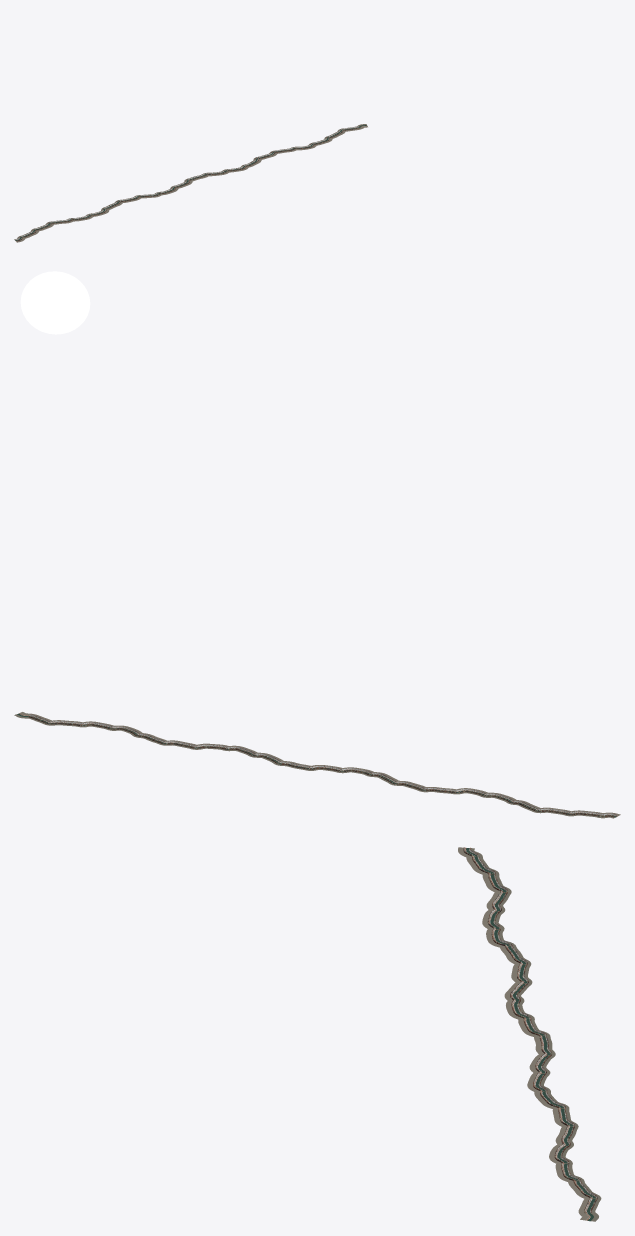
Rendered from amsterdam.glb.
3 renders of one model, top to bottom at view 1: azimuth 30°, elevation 25°; view 2: azimuth 150°, elevation 25°; view 3: azimuth 270°, elevation 25°, orthographic. The views are drawn at different scales.
Parts seen in each view (by area): view 1: no part large enough to name; view 2: Sun; view 3: no part large enough to name.
Boxes of the visible parts, x1,y1,x2,y2 form: Sun: (20, 271, 90, 334).
Bounding box in the file's own units: 10264 × 3490 × 4957.
